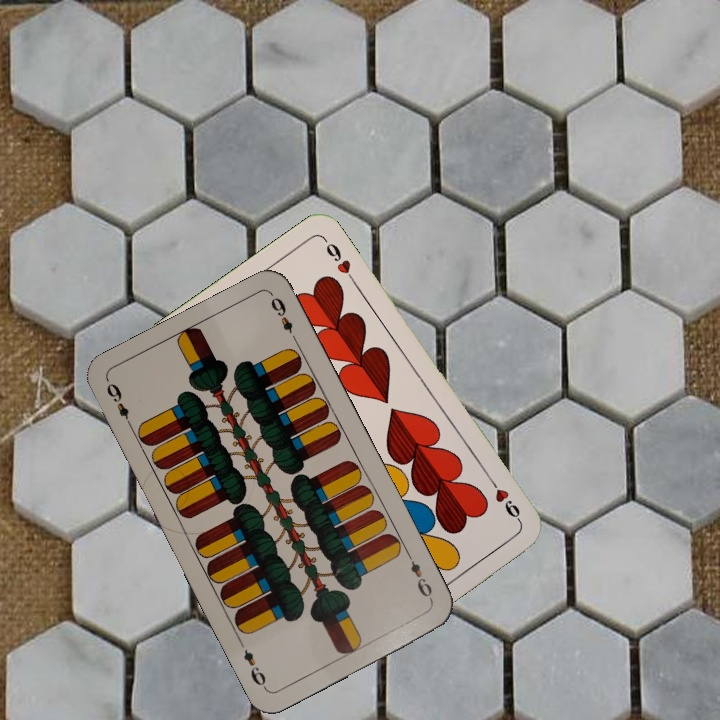E9: (102, 379, 136, 433), (403, 549, 436, 604)
H9: (484, 473, 524, 525)
